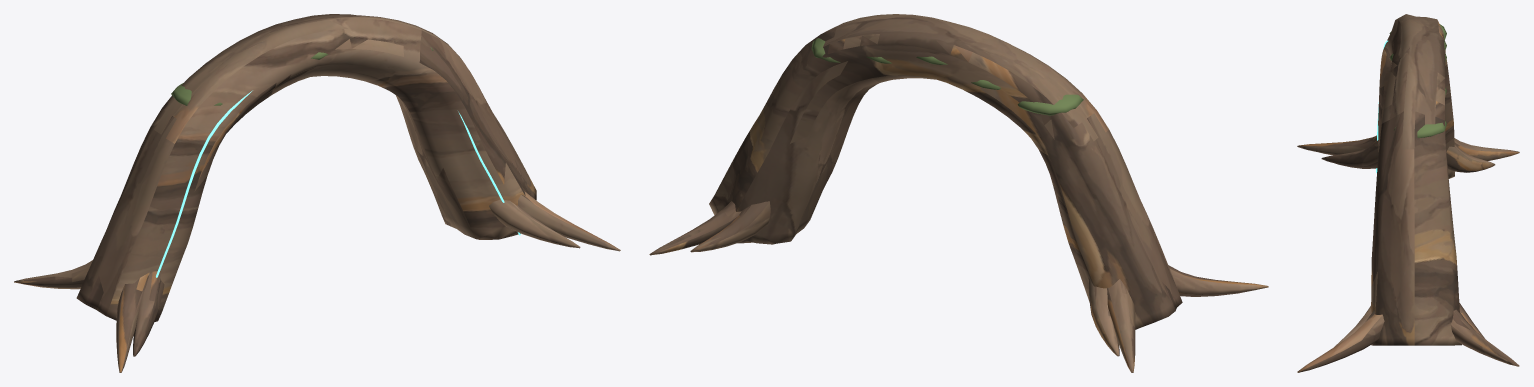
Rendered from SM_RB_RootArch.fbx.
The picture shows the model from 3 angles, left to right: view 1: azimuth 30°, elevation 25°; view 2: azimuth 150°, elevation 25°; view 3: azimuth 270°, elevation 25°; orthographic projection. The views are drawn at different scales.
Parts seen in each view (by area): view 1: SM_RB_RootArch; view 2: SM_RB_RootArch; view 3: SM_RB_RootArch.
Part boxes in pixels (left/top/right/bottom): SM_RB_RootArch: left=14, top=14, right=620, bottom=372; SM_RB_RootArch: left=649, top=14, right=1268, bottom=372; SM_RB_RootArch: left=1297, top=14, right=1519, bottom=372.
Bounding box in the file's own units: 10.05 × 4.17 × 4.66.
